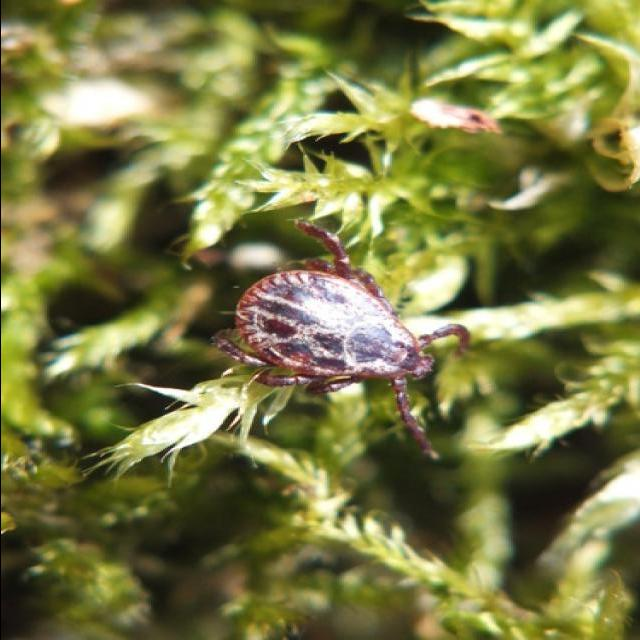Dermacentor Reticulatus-M: (208, 221, 469, 461)
